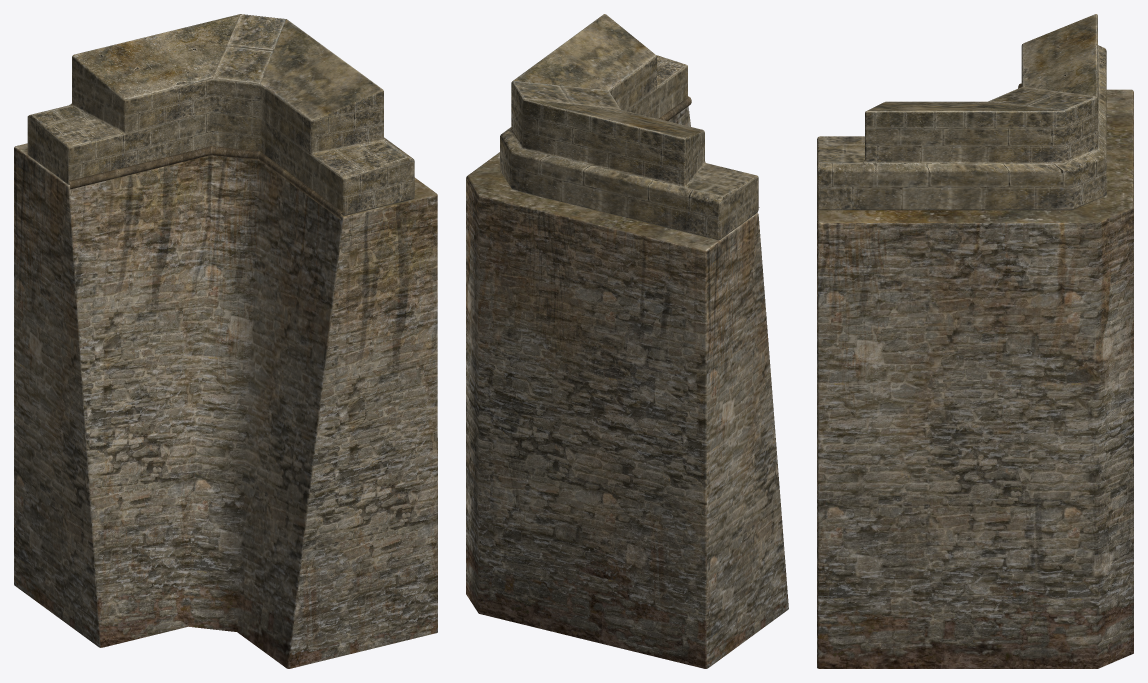
The model's file is modular_fort_01_wall_thin_corner_01.gltf.
The picture shows the model from 3 angles, left to right: view 1: azimuth 30°, elevation 25°; view 2: azimuth 150°, elevation 25°; view 3: azimuth 270°, elevation 25°; orthographic projection. The views are drawn at different scales.
Parts seen in each view (by area): view 1: modular_fort_01_wall_thin_corner_01__x; view 2: modular_fort_01_wall_thin_corner_01__x; view 3: modular_fort_01_wall_thin_corner_01__x.
Part boxes in pixels (box(x1,y1,x2,y2)): modular_fort_01_wall_thin_corner_01__x: box(14, 14, 437, 668); modular_fort_01_wall_thin_corner_01__x: box(466, 14, 788, 668); modular_fort_01_wall_thin_corner_01__x: box(817, 14, 1133, 668).
Bounding box in the file's own units: 4.56 × 8.61 × 4.56.
Materials: 2 (2 with a texture image).
